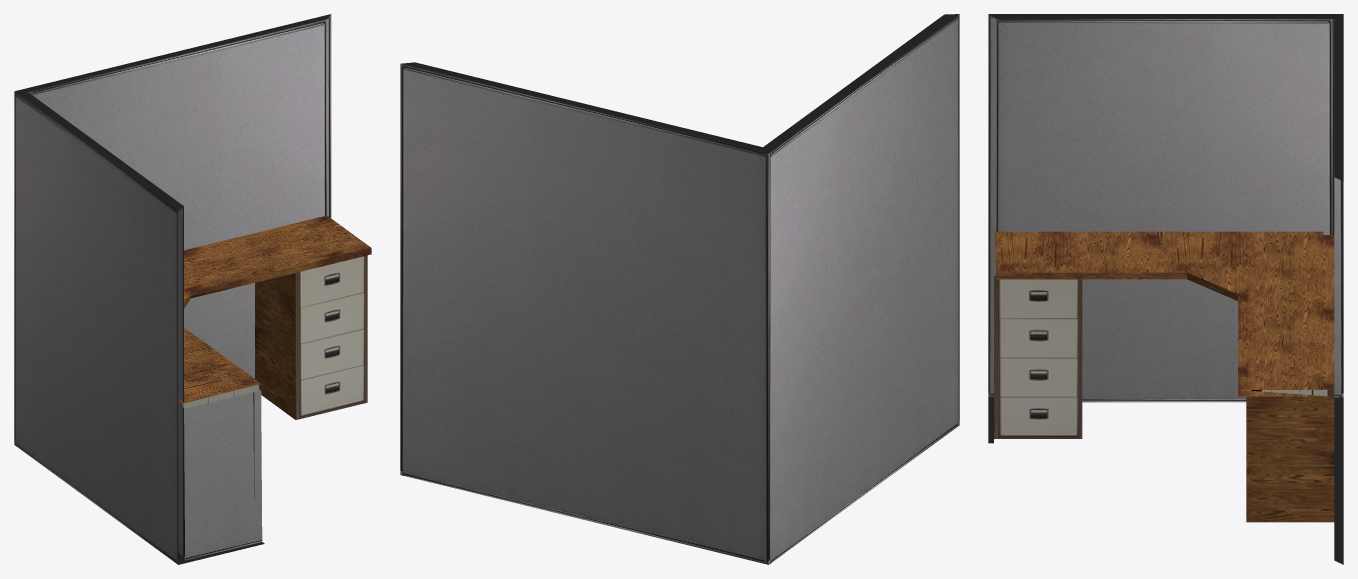
Rendered from monitor.glb.
3 renders of one model, left to right at view 1: azimuth 30°, elevation 25°; view 2: azimuth 150°, elevation 25°; view 3: azimuth 270°, elevation 25°, orthographic. The views are drawn at different scales.
Visible parts, largest first — view 1: Cube.012_Material.013_0; view 2: Cube.012_Material.013_0; view 3: Cube.012_Material.013_0.
Part boxes in pixels (x1,y1,x2,y2): Cube.012_Material.013_0: (14, 14, 371, 564); Cube.012_Material.013_0: (400, 14, 959, 564); Cube.012_Material.013_0: (988, 14, 1343, 564).
Size of the model in its own units: 9.41 by 10.03 by 8.43.
Materials: 1 (1 with a texture image).
